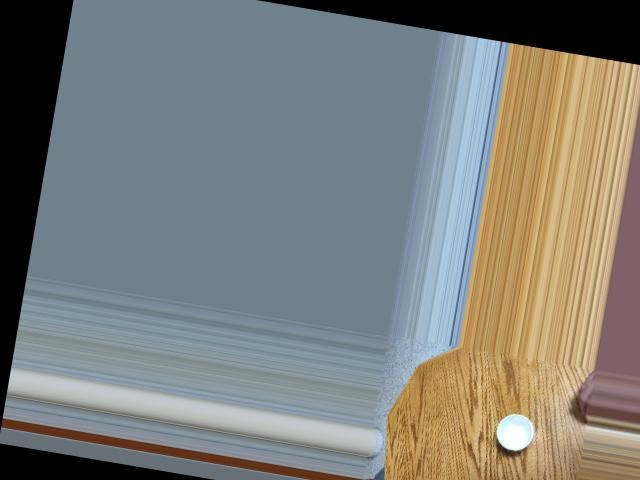cotage: (490, 408, 541, 453)
